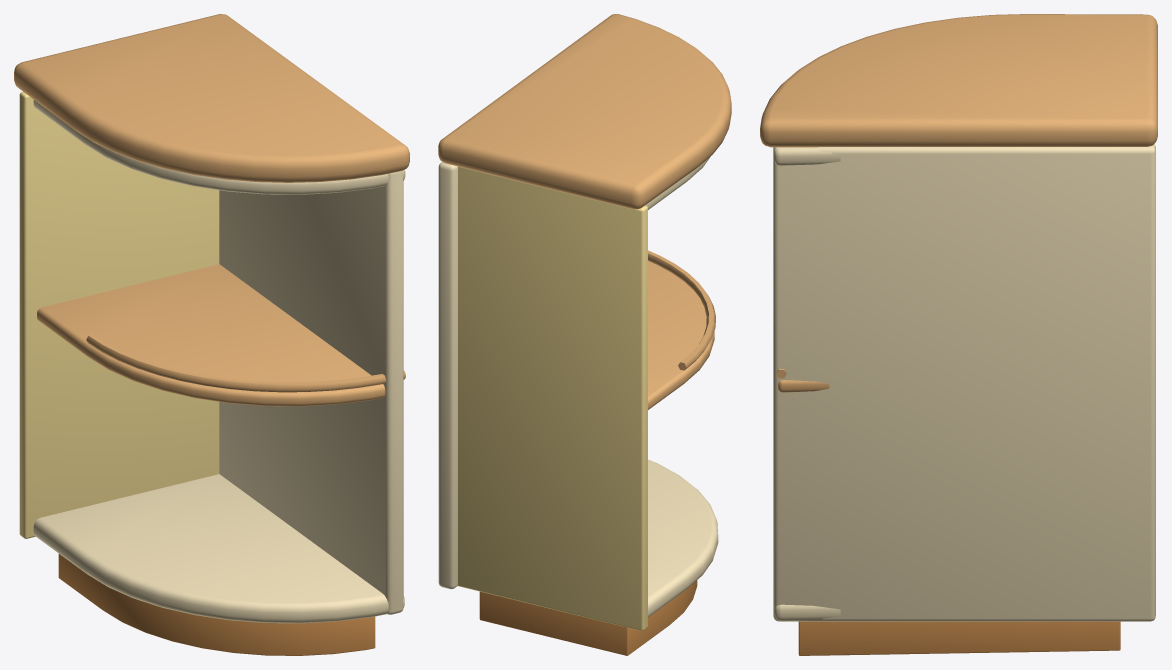
The model's file is armario_cozinha_ponta_curva_creme.glb.
3 views of the same model, side by side, from view 1: azimuth 30°, elevation 25°; view 2: azimuth 150°, elevation 25°; view 3: azimuth 270°, elevation 25° (orthographic). The views are drawn at different scales.
Visible parts, largest first — view 1: armario_cozinha_ponta_curva_creme; view 2: armario_cozinha_ponta_curva_creme; view 3: armario_cozinha_ponta_curva_creme.
Boxes of the visible parts, x1,y1,x2,y2 form: armario_cozinha_ponta_curva_creme: (14, 14, 409, 655); armario_cozinha_ponta_curva_creme: (438, 14, 731, 655); armario_cozinha_ponta_curva_creme: (760, 14, 1157, 655).
Size of the model in its own units: 0.4009 by 0.9 by 0.597.
Materials: 1 (1 with a texture image).
